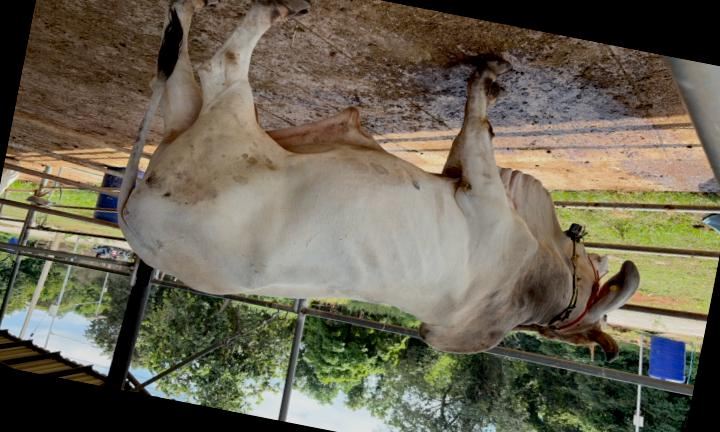Brahman: (116, 0, 639, 360)
